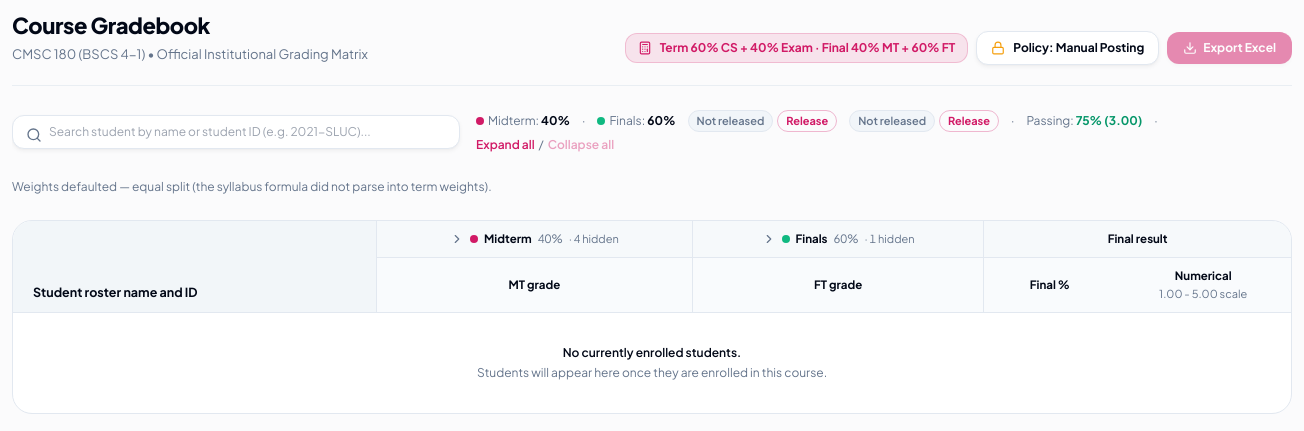
Test: FacultyGradebook collapse › expanding a term reveals its columns with animation class
Click the button with aria-label "expand midterm columns" at (534, 239), box [442,227,627,251]
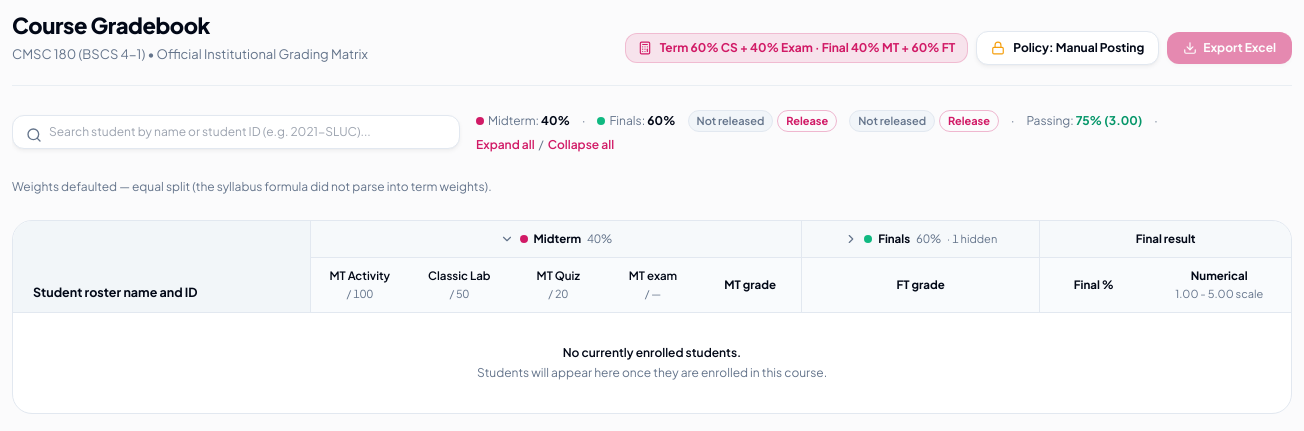
expect the text "MT Activity" is shown: met, box [330,268,390,283]
expect the column heading with class "animate-gradebook-cell-in" showing "MT Activity / 100" is shown: met, box [310,258,409,313]
